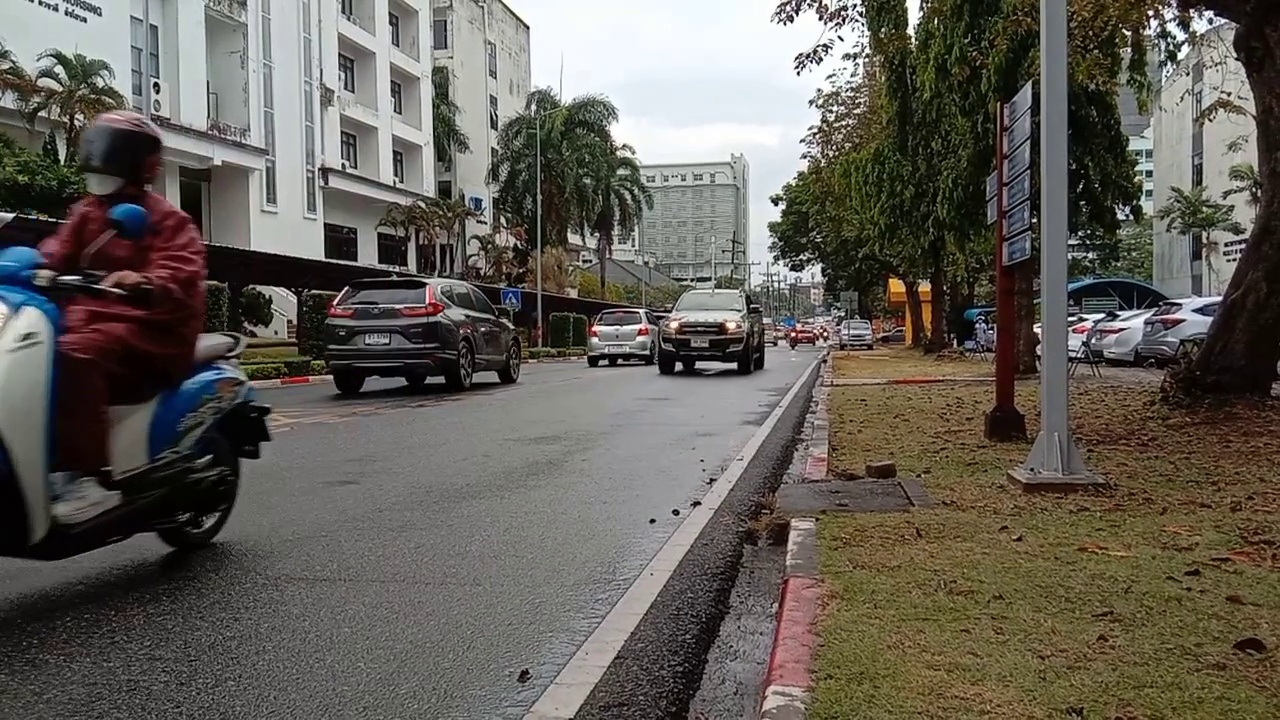License Plate: (361, 330, 389, 345), (688, 335, 709, 348)
